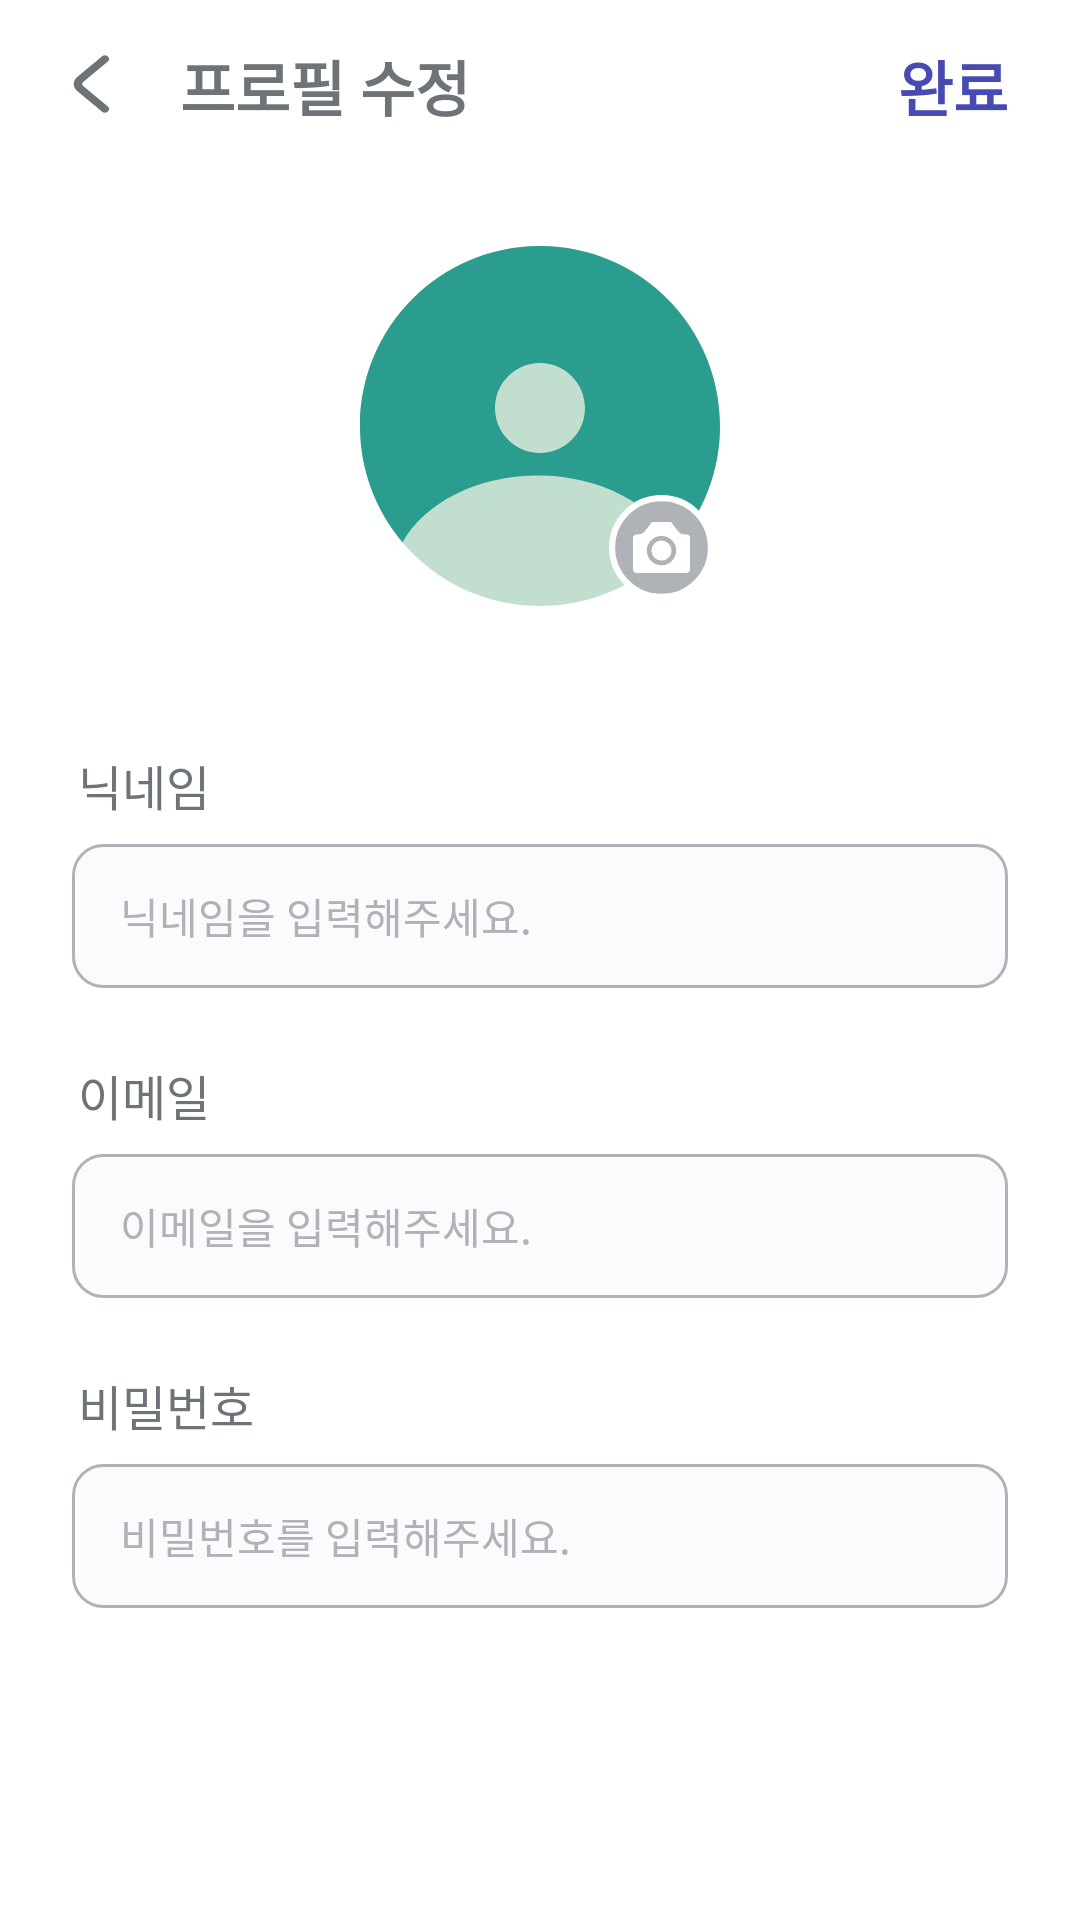

Named icons in this screenshot (1080 x 1920) and their bounding boxes, (x1, y1, x2, y2):
back: (73, 55, 109, 113)
